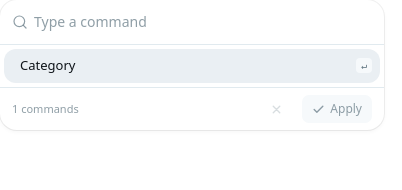
Test: CommandPalette plain slot (regression) › pops the last chip on Backspace with an empty query
Click the text "Category".
click(48, 65)  # box [20,56,75,74]
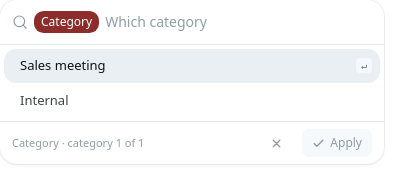
Click the text "Sales meeting".
click(63, 65)  # box [20,56,106,74]
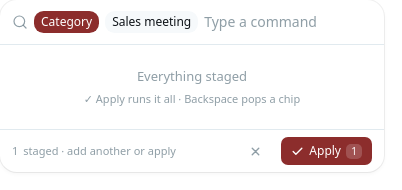
Result: the button with aria-label "Apply 1 staged command" is shown at [281,137,372,165]
Press Backspace in the dropdown, box [204,10,372,34]
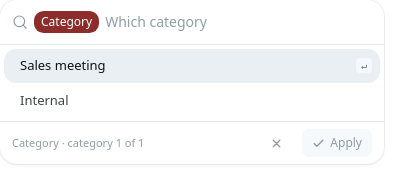
Result: the button "Category" is shown at [34,11,99,33]
Result: the button with aria-label "Apply 0 staged commands" is disabled at [302,129,372,157]
